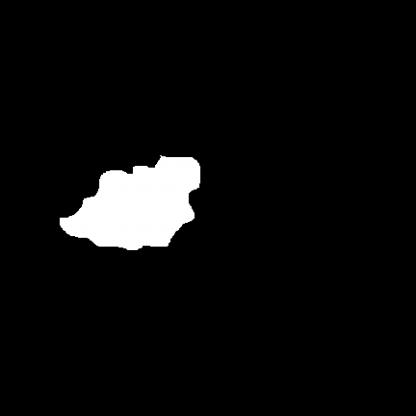malignant: (51, 144, 219, 261)
